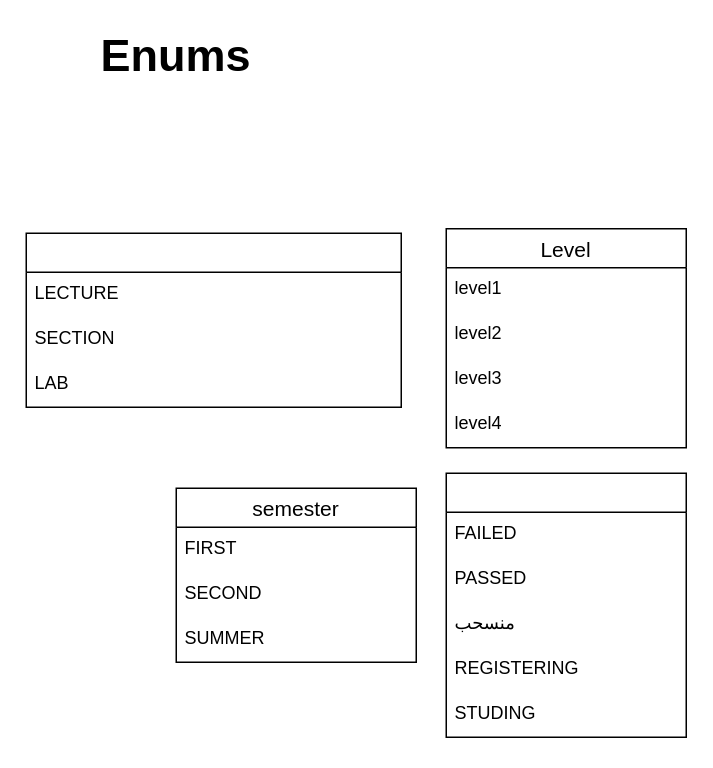
This 713x768 diagram has some shape labels left out. Each missing label, with the box of its shape:
course_classes_timming_type: (25, 232, 401, 407)
courses_registers_state: (445, 472, 686, 737)
